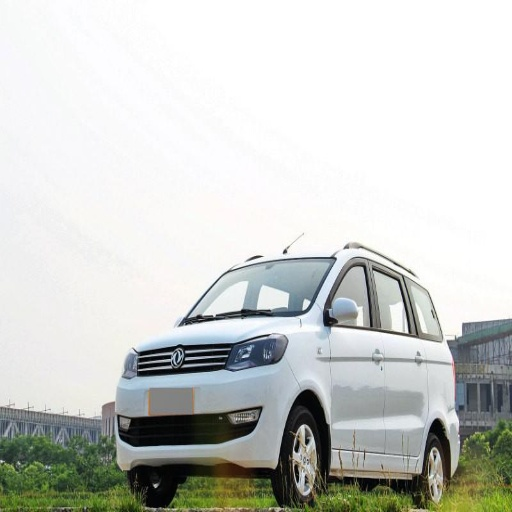front_bumper: (115, 344, 294, 467)
front_glass: (184, 260, 334, 322)
front_left_door: (325, 255, 386, 467)
trunk: (427, 345, 457, 436)
